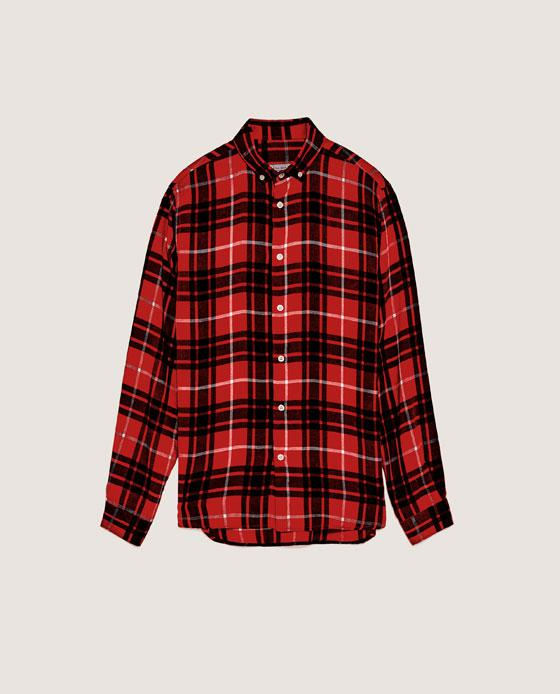teeshirt: (94, 117, 466, 576)
